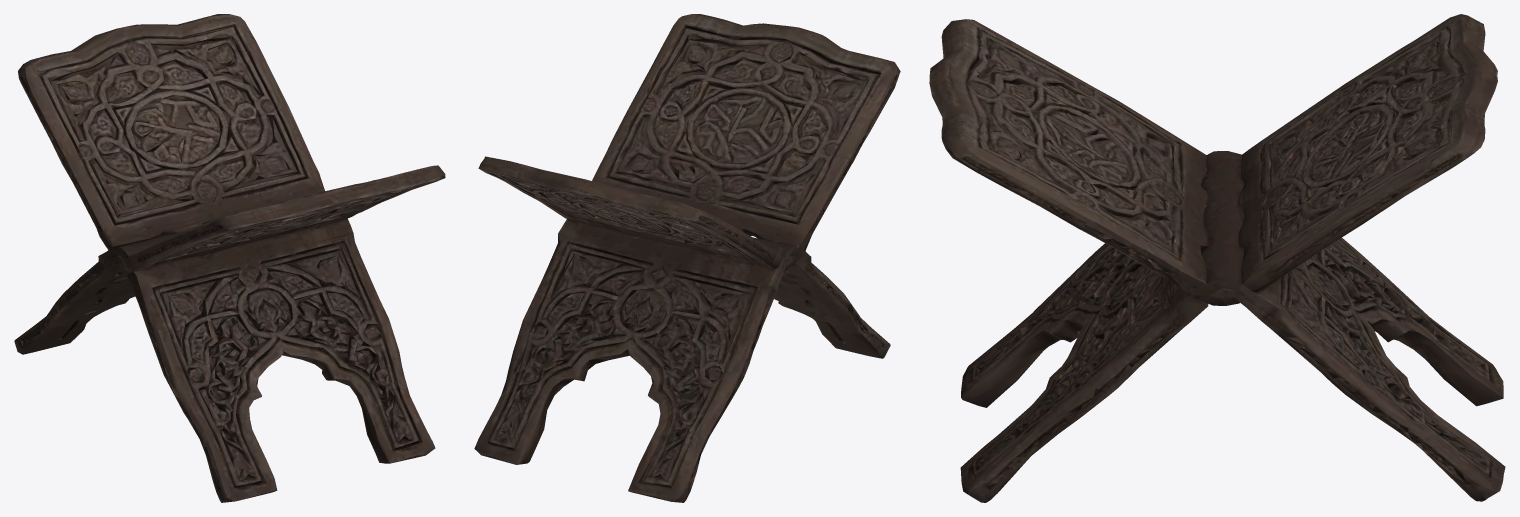
Rendered from SM_JingJia3_463b5e.glb.
3 views of the same model, side by side, from view 1: azimuth 30°, elevation 25°; view 2: azimuth 150°, elevation 25°; view 3: azimuth 270°, elevation 25° (orthographic). The views are drawn at different scales.
Visible parts, largest first — view 1: SM_JingJia3; view 2: SM_JingJia3; view 3: SM_JingJia3.
Boxes of the visible parts, <box> form: SM_JingJia3: <box>14,14,445,502</box>; SM_JingJia3: <box>474,14,900,502</box>; SM_JingJia3: <box>929,14,1505,502</box>.
Bounding box in the file's own units: 0.3078 × 0.4006 × 0.557.
Materials: 1 (1 with a texture image).
